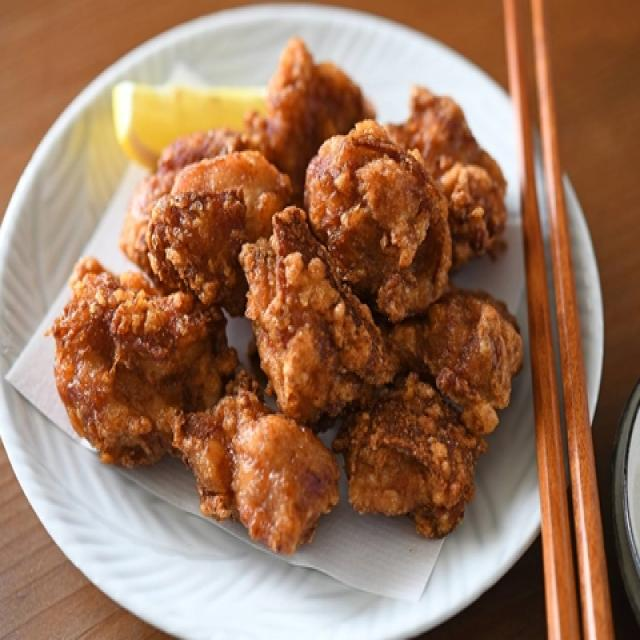Frango: (44, 34, 525, 558)
